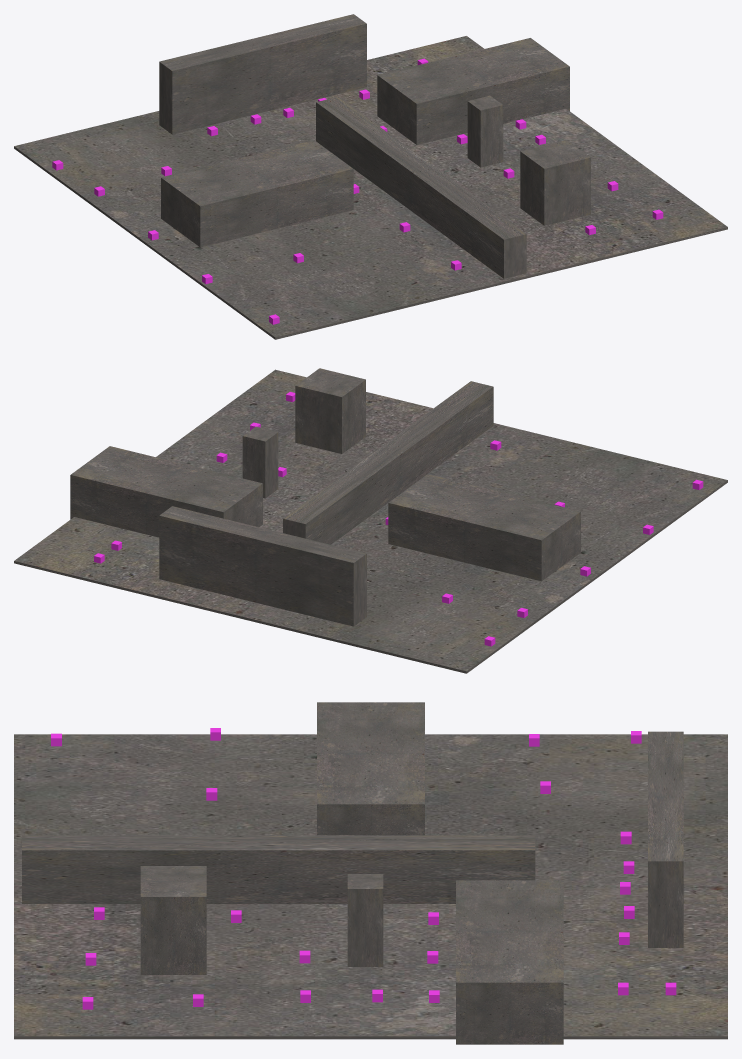
Rendered from ai_test_map.dae.
The picture shows the model from 3 angles, top to bottom: view 1: azimuth 30°, elevation 25°; view 2: azimuth 150°, elevation 25°; view 3: azimuth 270°, elevation 25°; orthographic projection. The views are drawn at different scales.
Parts seen in each view (by area): view 1: pCube1, pCube4, pCube2, pCube7, pCube3, pCube6, pCube5; view 2: pCube1, pCube4, pCube2, pCube3, pCube7, pCube6, pCube5; view 3: pCube1, pCube3, pCube7, pCube2, pCube4, pCube6, pCube5.
Part boxes in pixels (x1,y1,x2,y2): pCube1: [14, 36, 727, 339]; pCube4: [159, 14, 366, 134]; pCube2: [161, 140, 353, 247]; pCube7: [377, 38, 569, 144]; pCube3: [316, 96, 526, 278]; pCube6: [520, 140, 590, 225]; pCube5: [467, 95, 503, 167]; pCube1: [14, 369, 727, 673]; pCube4: [159, 506, 366, 626]; pCube2: [388, 474, 580, 581]; pCube3: [283, 381, 493, 544]; pCube7: [70, 446, 262, 537]; pCube6: [295, 368, 365, 453]; pCube5: [242, 426, 278, 498]; pCube1: [14, 734, 727, 1039]; pCube3: [22, 835, 535, 903]; pCube7: [456, 880, 563, 1044]; pCube2: [317, 702, 424, 835]; pCube4: [648, 731, 683, 947]; pCube6: [140, 866, 206, 974]; pCube5: [347, 874, 383, 966].
Bounding box in the file's own units: 20.17 × 2.93 × 20.
